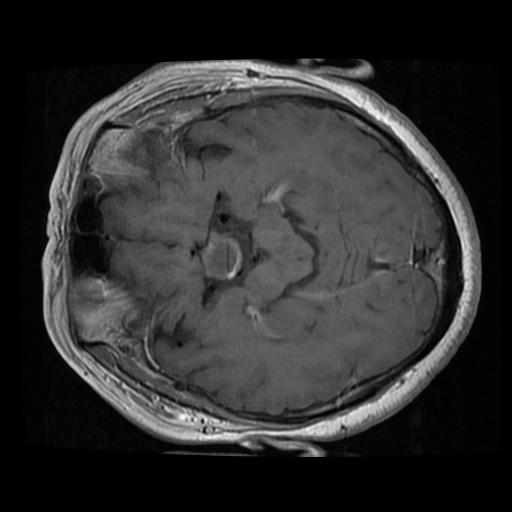pituitary tumour: (200, 233, 242, 281)
